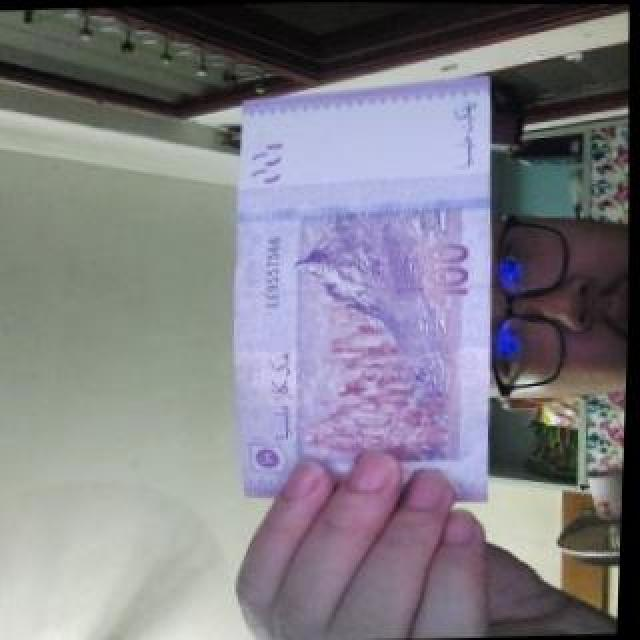100 Ringgit: (220, 70, 509, 510)
